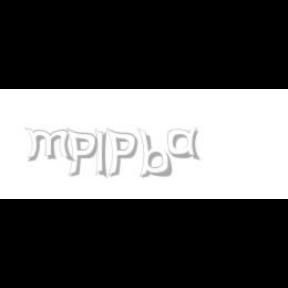P: (66, 128, 98, 178), (106, 128, 138, 178)
a: (168, 128, 204, 160)
b: (137, 128, 175, 178)
l: (95, 128, 111, 180)
m: (24, 128, 76, 162)
